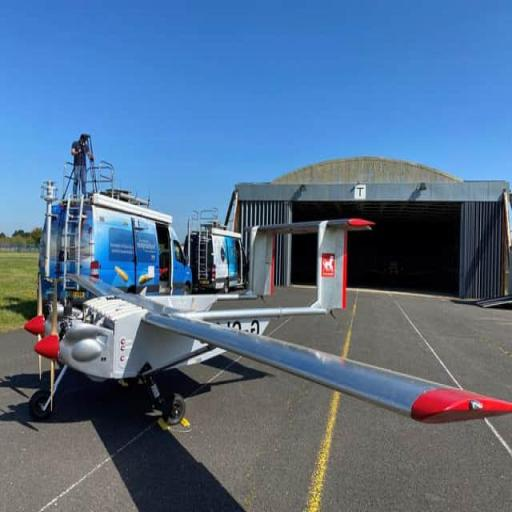uav: (16, 213, 511, 443)
